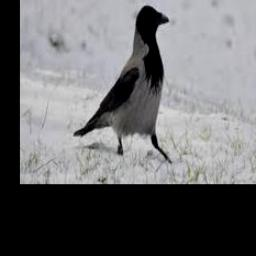Crow: (73, 4, 170, 163)
